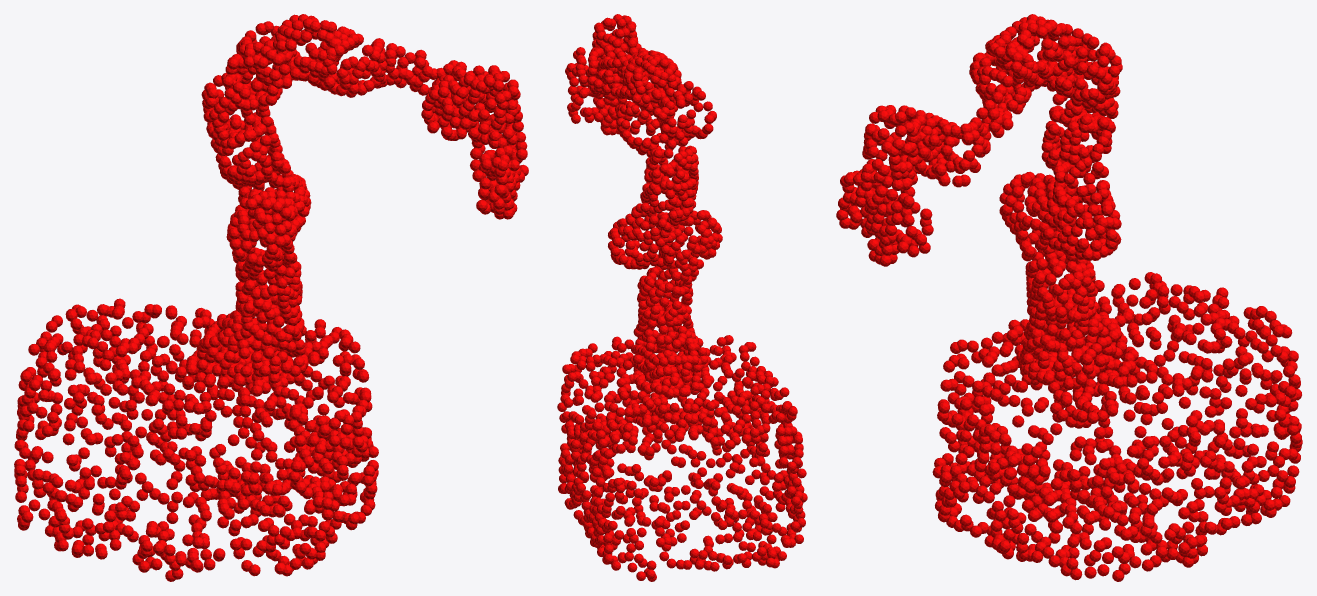
Rendered from new_points_2.glb.
3 renders of one model, left to right at view 1: azimuth 30°, elevation 25°; view 2: azimuth 150°, elevation 25°; view 3: azimuth 270°, elevation 25°, orthographic. The views are drawn at different scales.
Parts seen in each view (by area): view 1: world; view 2: world; view 3: world.
Boxes of the visible parts, x1,y1,x2,y2 form: world: (14,14,528,581); world: (557,14,807,581); world: (836,14,1302,581).
Size of the model in its own units: 0.892 by 1.17 by 0.8973.
